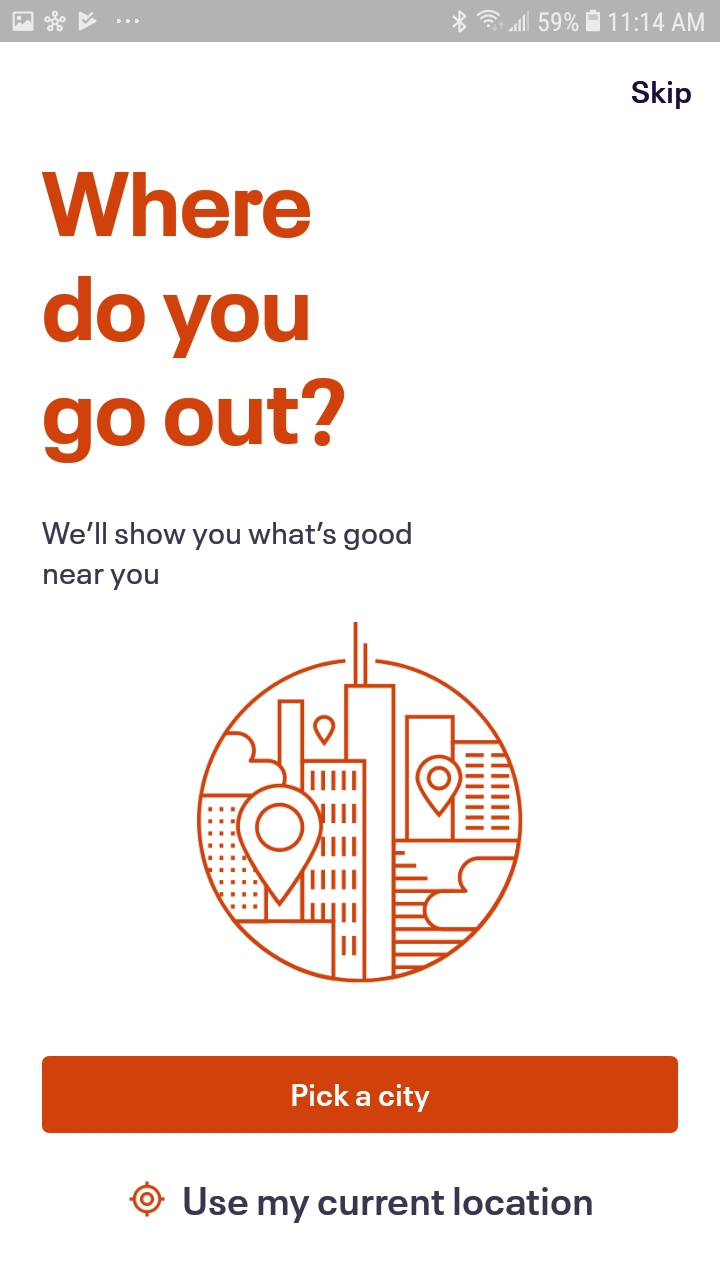Icon: (129, 1181, 166, 1218)
Image: (196, 622, 523, 984)
Text: (42, 172, 345, 465), (43, 522, 413, 592), (184, 1186, 593, 1224), (631, 81, 692, 111)
TextButton: (42, 1056, 679, 1134)
UpperTaskBar: (1, 1, 720, 43)
